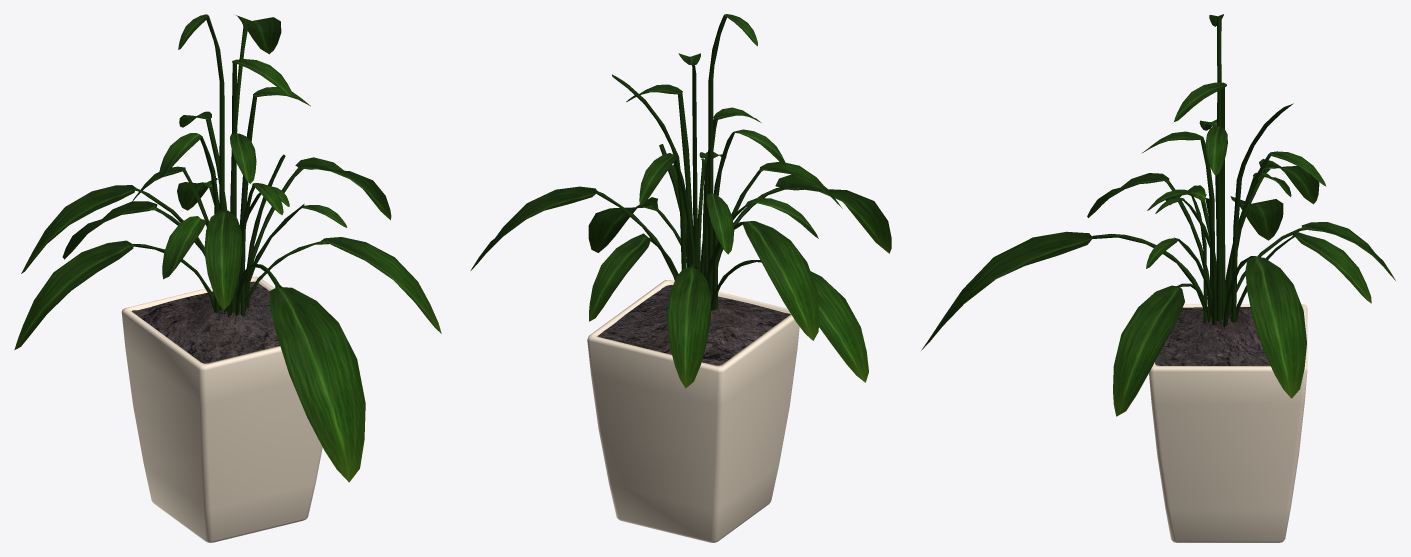
File: indoor_plant_05.fbx
3 renders of one model, left to right at view 1: azimuth 30°, elevation 25°; view 2: azimuth 150°, elevation 25°; view 3: azimuth 270°, elevation 25°, orthographic. The views are drawn at different scales.
Visible parts, largest first — view 1: plant_05; view 2: plant_05; view 3: plant_05.
Boxes of the visible parts, x1,y1,x2,y2 form: plant_05: [14, 14, 441, 542]; plant_05: [470, 14, 891, 542]; plant_05: [921, 14, 1395, 542].
Size of the model in its own units: 117 by 145 by 128.
